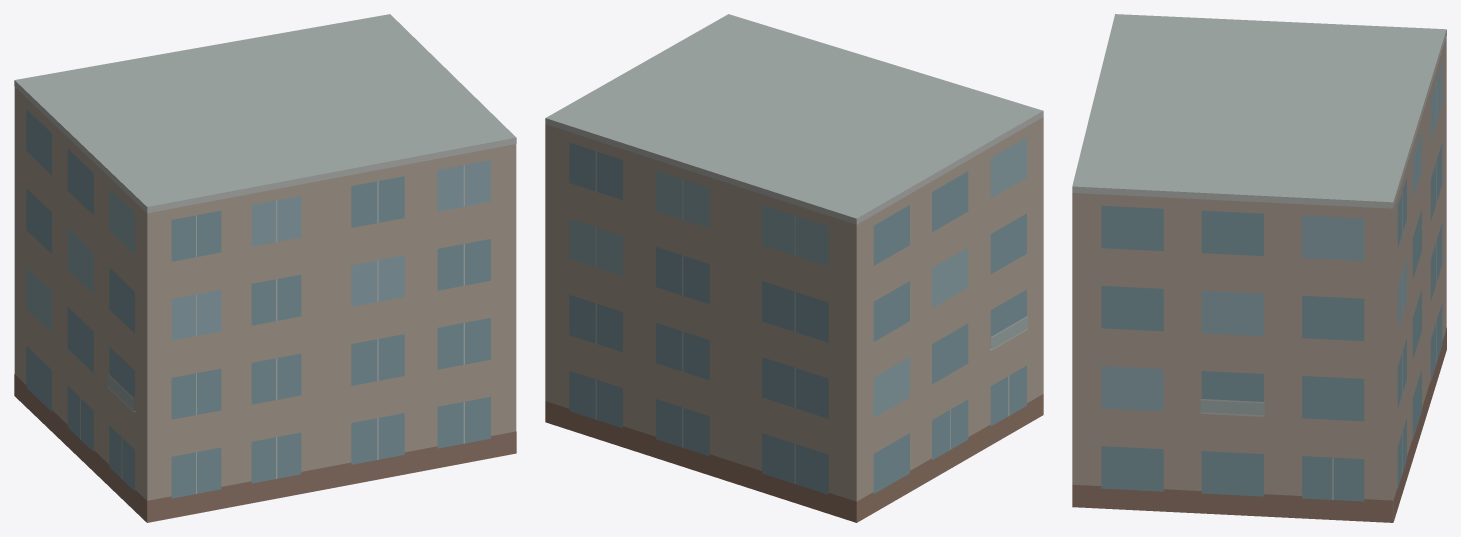
File: survey-upis-32743427.glb
The picture shows the model from 3 angles, left to right: view 1: azimuth 30°, elevation 25°; view 2: azimuth 150°, elevation 25°; view 3: azimuth 270°, elevation 25°; orthographic projection. The views are drawn at different scales.
Visible parts, largest first — view 1: survey-upis-32743427.tmp; view 2: survey-upis-32743427.tmp; view 3: survey-upis-32743427.tmp.
Boxes of the visible parts, bbox=[...] form: survey-upis-32743427.tmp: bbox=[14, 14, 516, 522]; survey-upis-32743427.tmp: bbox=[545, 14, 1043, 522]; survey-upis-32743427.tmp: bbox=[1072, 14, 1446, 522].
Bounding box in the file's own units: 15.38 × 12.2 × 12.93.
